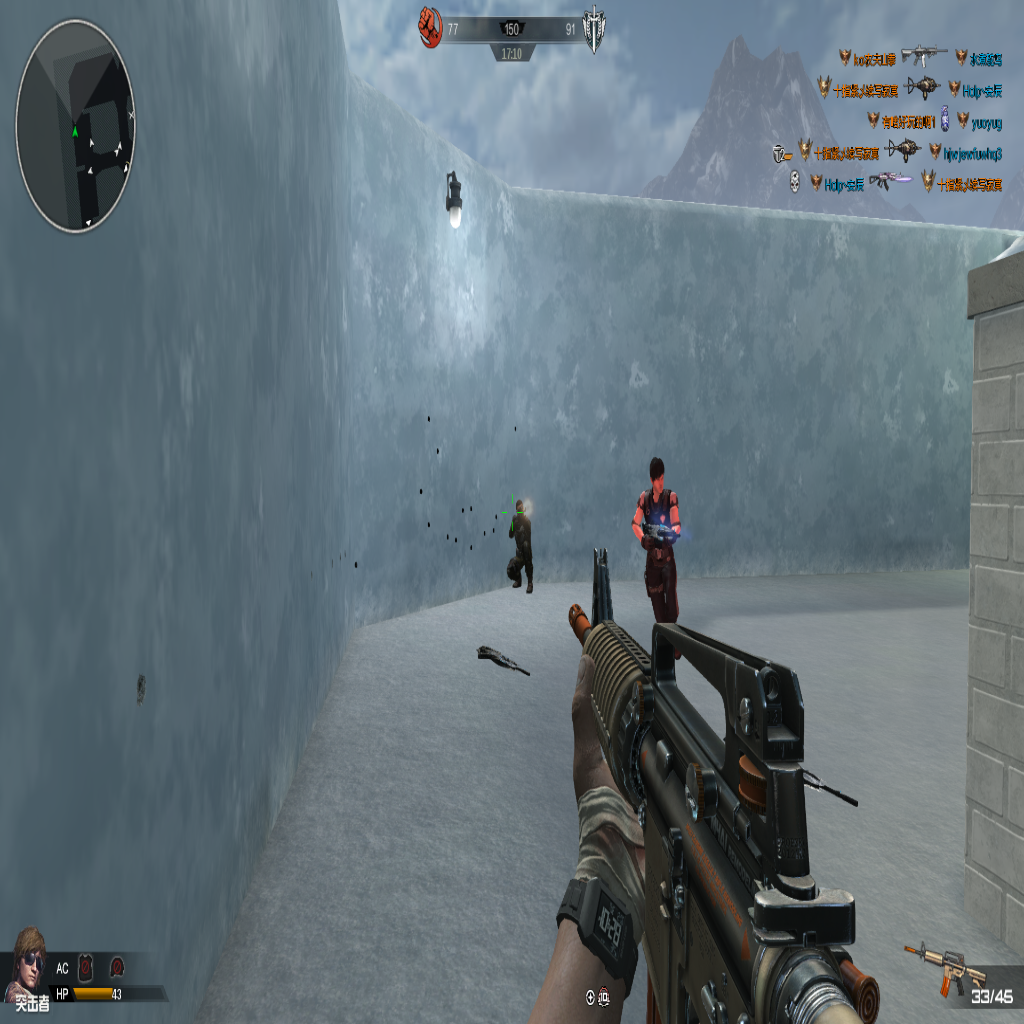ct: (633, 457, 682, 639), (507, 495, 534, 595)
